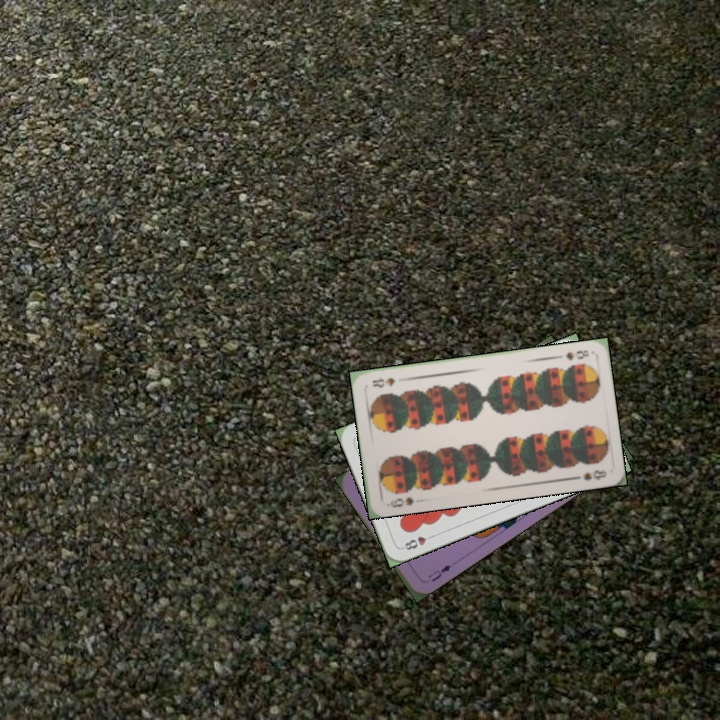EU: (424, 560, 454, 585)
H8: (398, 530, 437, 553)
S8: (383, 493, 416, 510), (561, 346, 591, 363)
